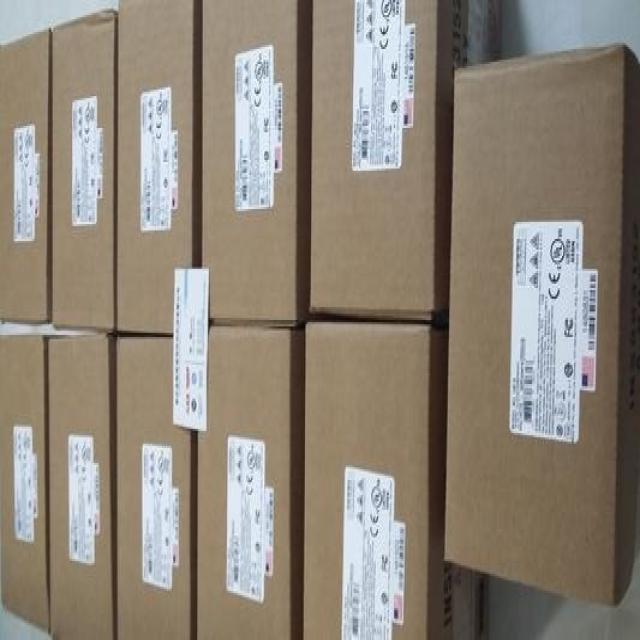box: (444, 45, 638, 605), (310, 0, 501, 324), (301, 314, 491, 638), (201, 1, 311, 326), (192, 324, 304, 638), (116, 1, 202, 334), (114, 335, 196, 636), (48, 7, 118, 333), (47, 334, 117, 637), (0, 28, 53, 327), (0, 333, 48, 629)
